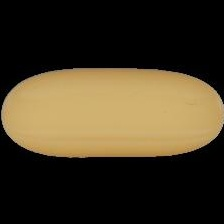50268-069: (0, 0, 224, 224)
